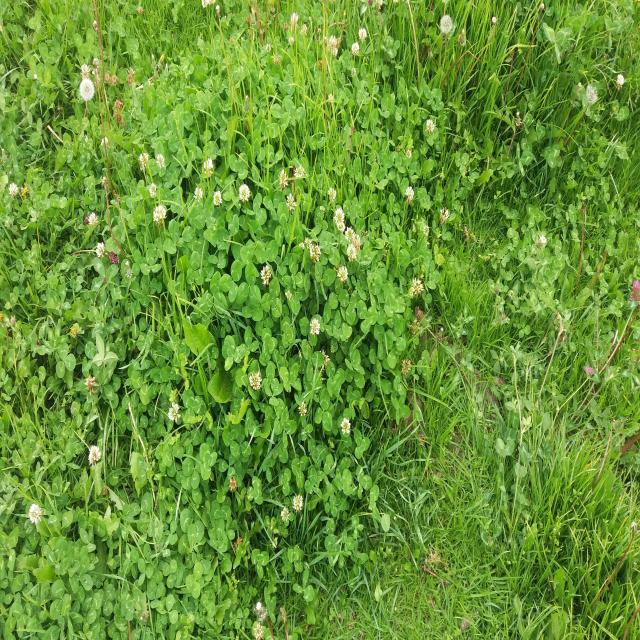Four Leaf Clover: (279, 362, 302, 393)
